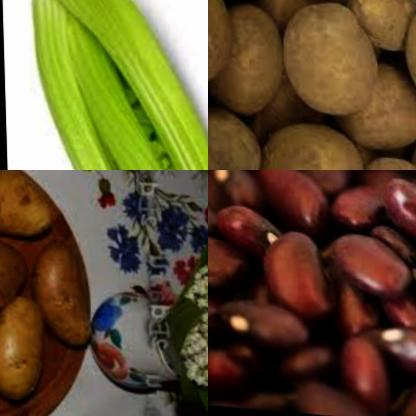beans: (208, 170, 416, 416)
celery: (23, 0, 208, 170)
potato: (275, 0, 391, 120), (208, 0, 286, 122), (31, 236, 103, 352), (337, 48, 416, 152), (256, 112, 378, 170), (0, 289, 51, 405), (338, 0, 416, 60), (0, 170, 64, 238), (208, 95, 265, 170), (0, 234, 29, 322)
